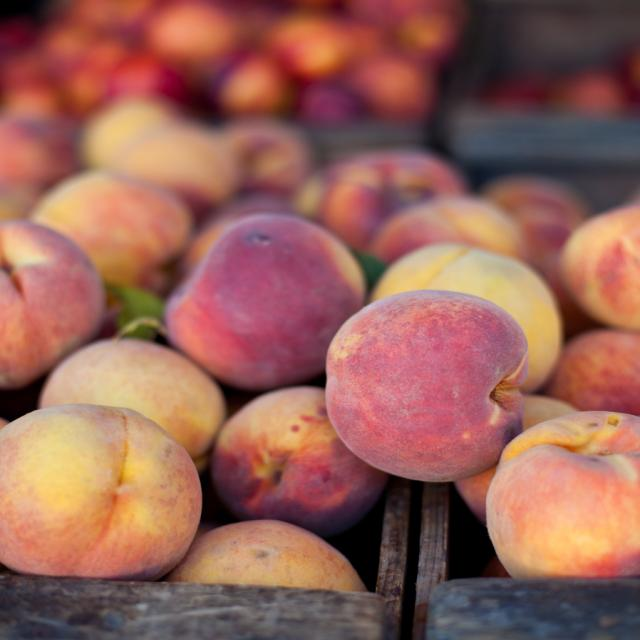Peach: (0, 0, 640, 591), (321, 294, 517, 484)
